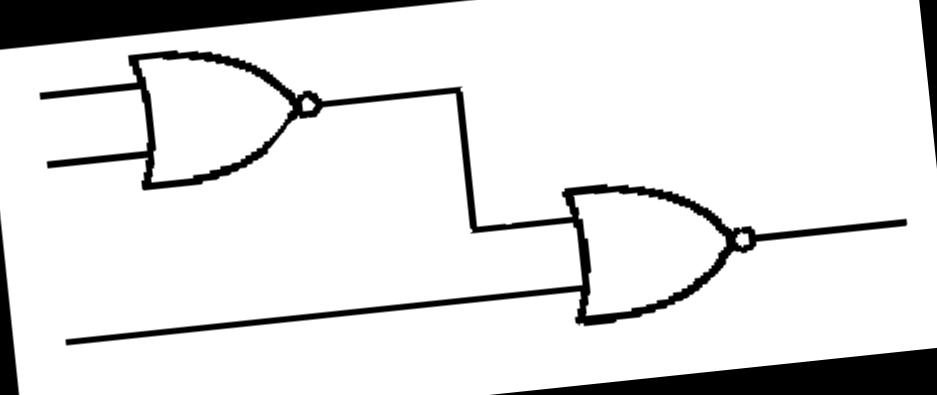nor: (554, 158, 770, 331), (120, 26, 334, 195)
